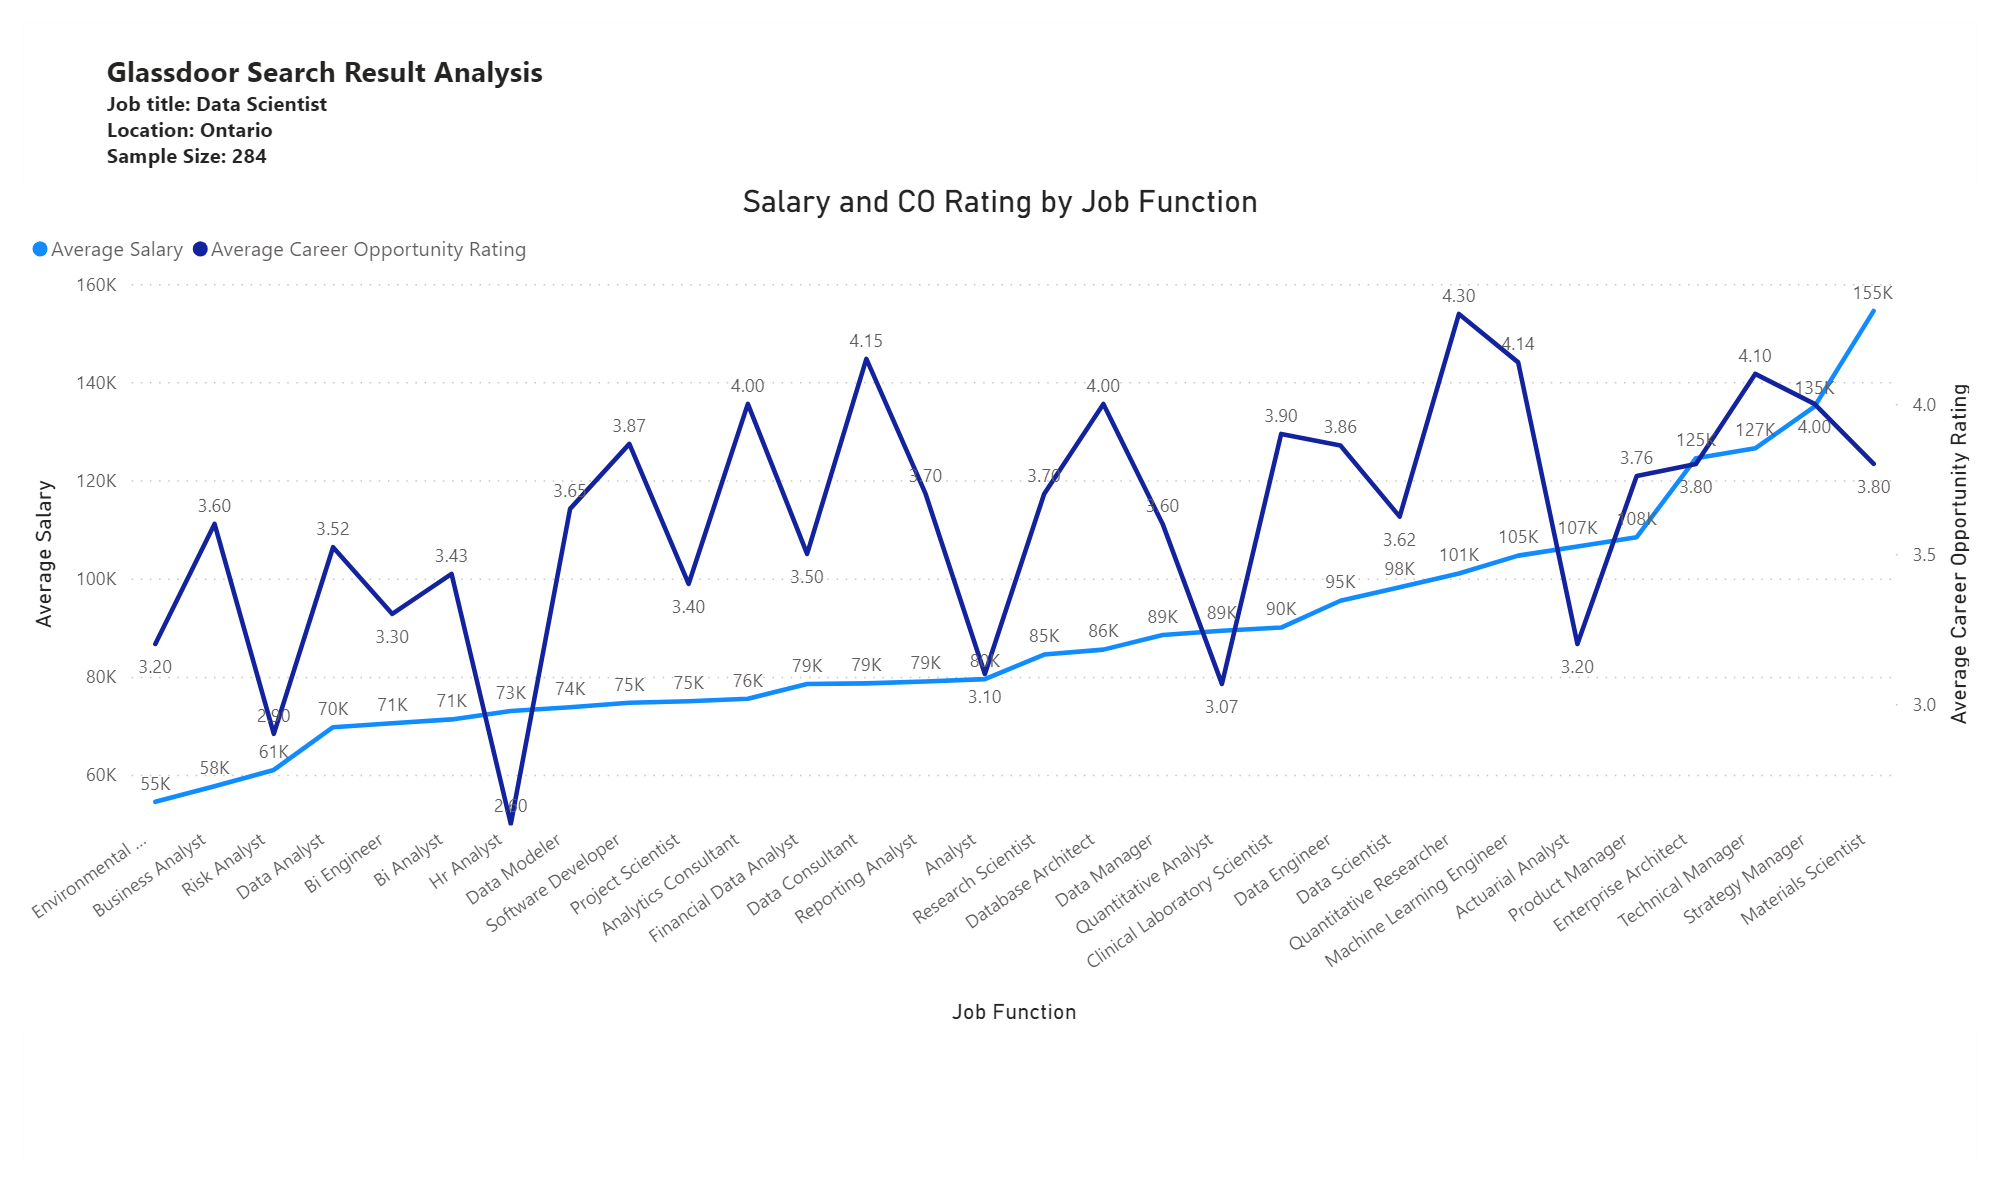

The page's visual inventory and layout, read from the dashboard file:
{"tool":"powerbi","page":{"name":"Job Function","canvas":[1280,720],"ordinal":1},"visuals":[{"type":"lineChart","title":"Salary vs CO Rating (by Job Function)","fields":{"Category":["job func average.Job Function"],"Y":["Sum(job func average.Estimated Salary)"],"Y2":["Sum(job func average.Career Opportunitie)"]},"box":[6.2,111,1274,579.7],"z":0},{"type":"textbox","box":[28.4,0,353.3,98.5],"z":1000}]}

Visuals, with their boxes on the page's 1280x720 design canvas (x1, y1, x2, y2). These are canvas units, not pixel positions in the 2000x1186 screenshot, which may show the page scaled, cropped or inside an application window:
"Salary vs CO Rating (by Job Function)" lineChart: region(6, 111, 1280, 691)
textbox: region(28, 0, 382, 98)
